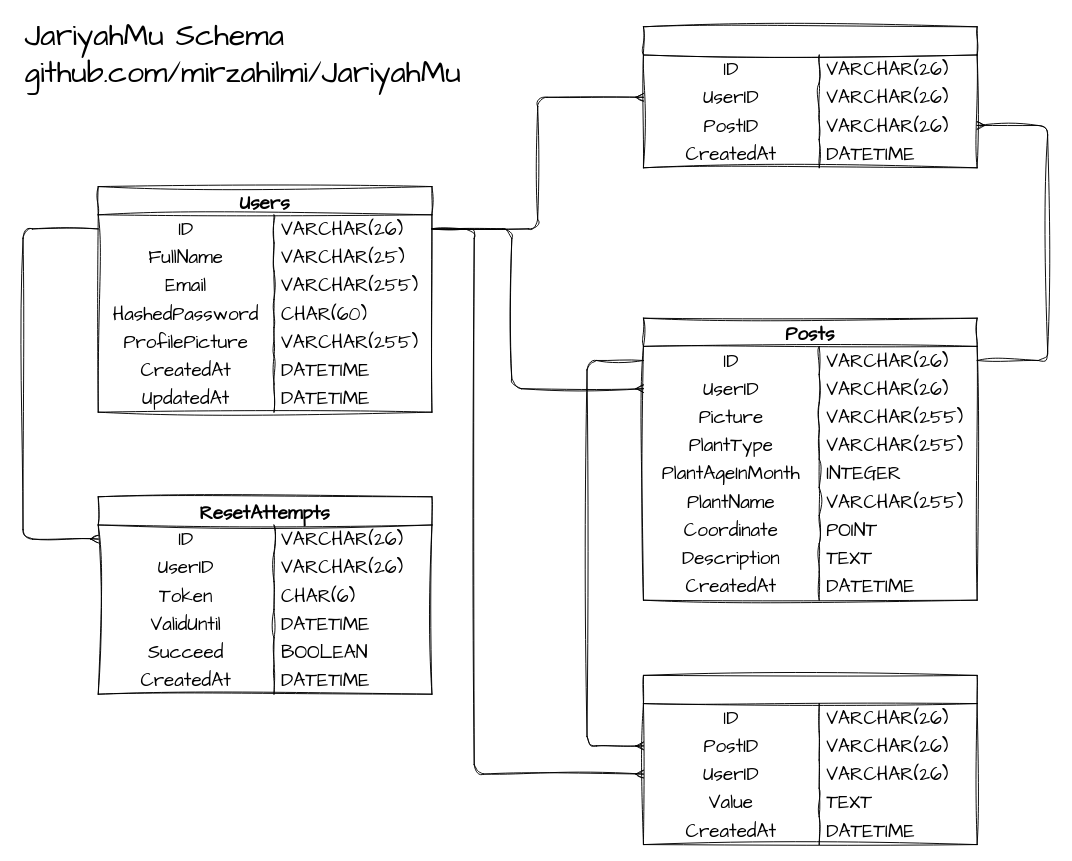
Image size: 1072x861. Some labels were removed from this diagram. Here are the shapes that lost their labels. From the top down, the box of each, then its label:
(642, 26, 977, 168): Bookmarks
(642, 674, 977, 845): Comments
